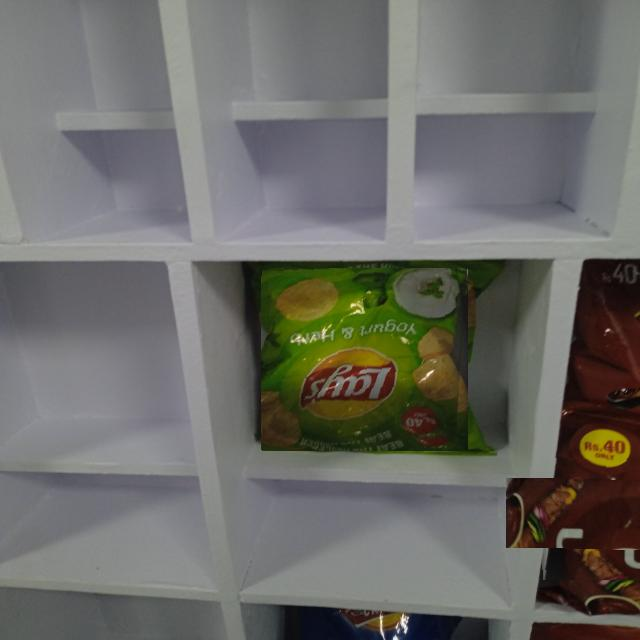Plastic: (261, 268, 468, 451), (537, 446, 640, 580)
